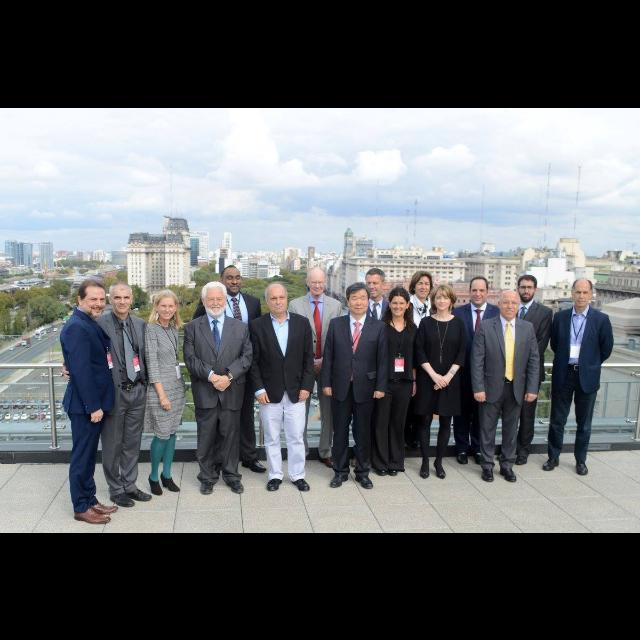head: (77, 278, 107, 318), (201, 282, 229, 316), (108, 280, 134, 314), (154, 288, 180, 320), (264, 282, 290, 314), (346, 281, 370, 315), (496, 289, 522, 319), (219, 264, 243, 294), (305, 268, 329, 296), (516, 274, 540, 302), (365, 268, 387, 298), (388, 286, 410, 316), (571, 278, 593, 306), (432, 283, 453, 311), (412, 270, 432, 298), (470, 276, 490, 304)
person: (60, 280, 156, 508), (190, 262, 268, 476), (181, 278, 253, 494), (244, 279, 316, 493), (58, 276, 120, 524), (319, 280, 391, 490), (542, 277, 616, 475), (471, 286, 542, 482), (286, 265, 344, 467), (412, 282, 468, 480), (498, 272, 554, 466), (446, 274, 502, 466), (344, 266, 396, 462), (369, 285, 421, 479), (142, 285, 188, 497), (390, 268, 438, 456)
